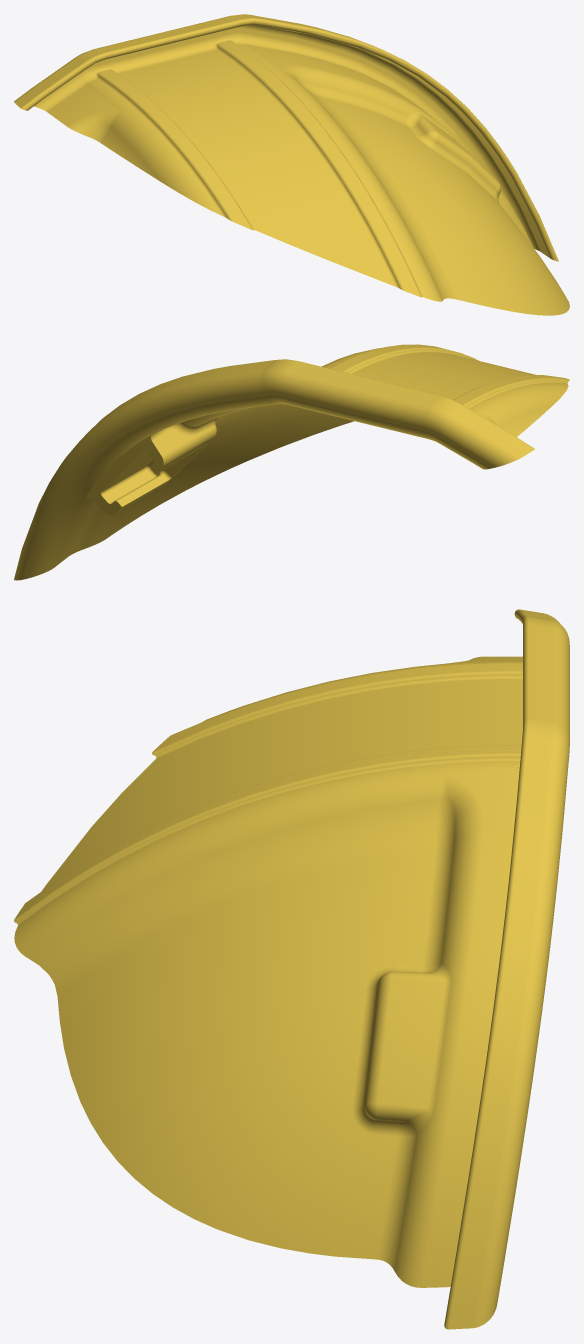
3 renders of one model, top to bottom at view 1: azimuth 30°, elevation 25°; view 2: azimuth 150°, elevation 25°; view 3: azimuth 270°, elevation 25°, orthographic. The views are drawn at different scales.
Parts seen in each view (by area): view 1: Body1; view 2: Body1; view 3: Body1.
Boxes of the visible parts, left/top/right/bottom form: Body1: left=14, top=14, right=569, bottom=315; Body1: left=14, top=344, right=569, bottom=580; Body1: left=14, top=609, right=569, bottom=1329.
Size of the model in its own units: 1.66 by 0.904 by 1.11.
